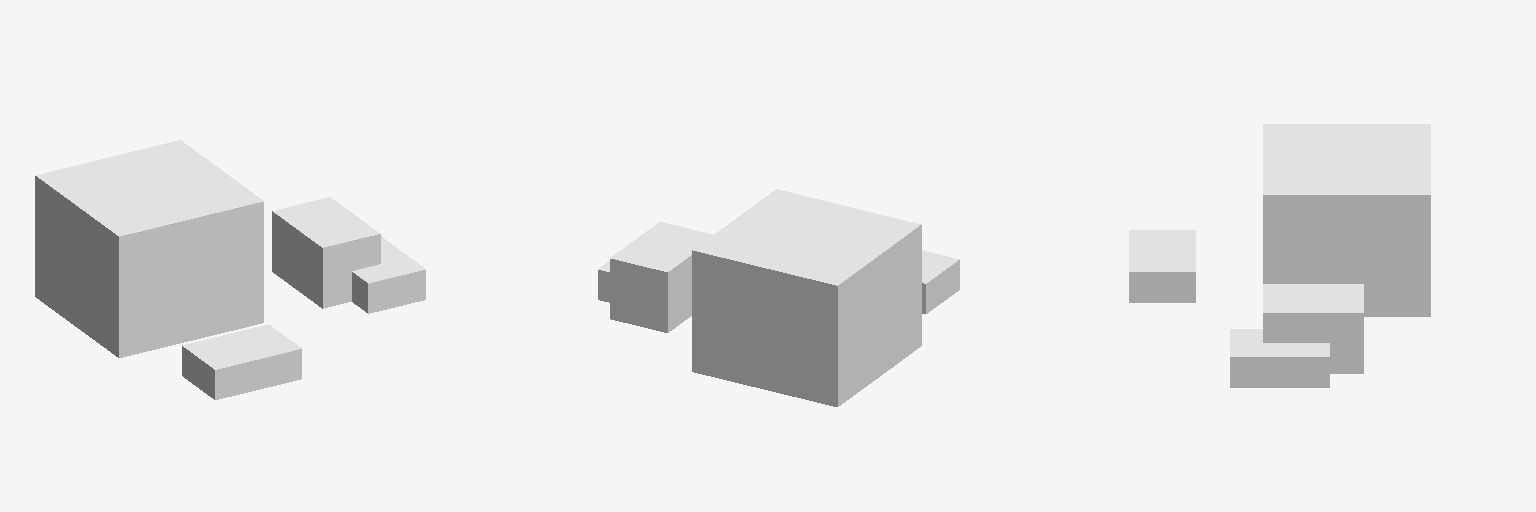
File: stone02.obj
3 renders of one model, left to right at view 1: azimuth 30°, elevation 25°; view 2: azimuth 150°, elevation 25°; view 3: azimuth 270°, elevation 25°, orthographic.
Parts seen in each view (by area): view 1: object 1; view 2: object 1; view 3: object 1.
Boxes of the visible parts, x1,y1,x2,y2 form: object 1: [35, 140, 425, 399]; object 1: [598, 189, 959, 406]; object 1: [1129, 124, 1430, 387].
Bounding box in the file's own units: 1 × 0.4 × 0.9.